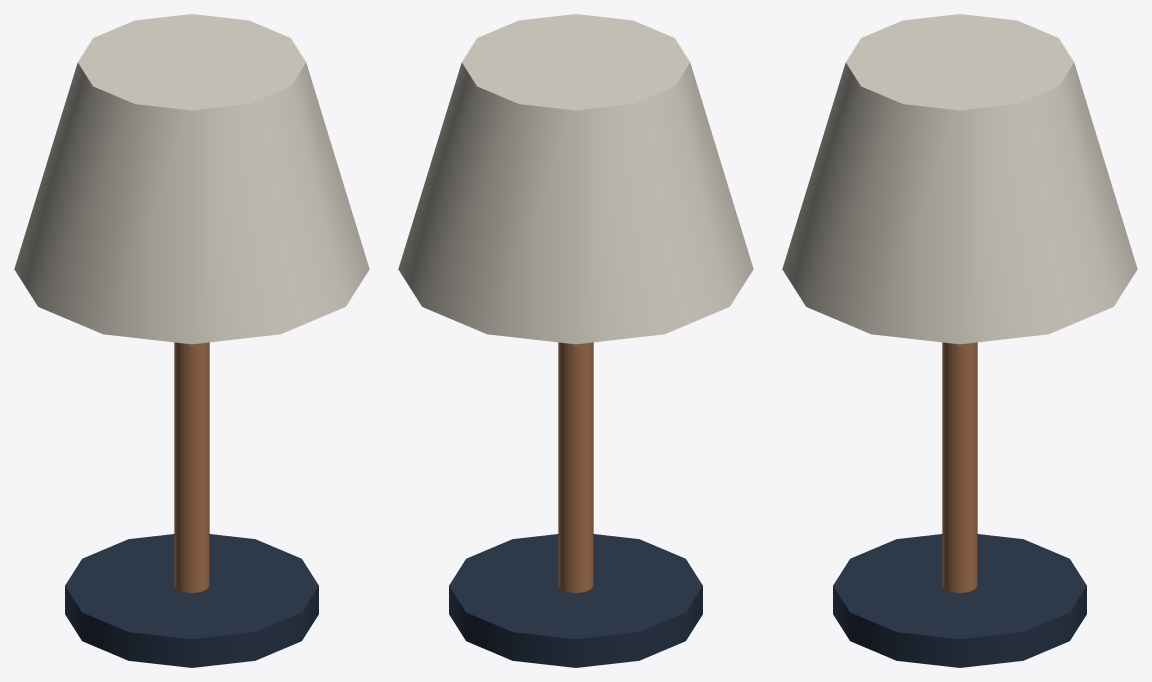
Rendered from officeTableLamp.glb.
3 views of the same model, side by side, from view 1: azimuth 30°, elevation 25°; view 2: azimuth 150°, elevation 25°; view 3: azimuth 270°, elevation 25° (orthographic).
Size of the model in its own units: 0.28 by 0.48 by 0.28.
